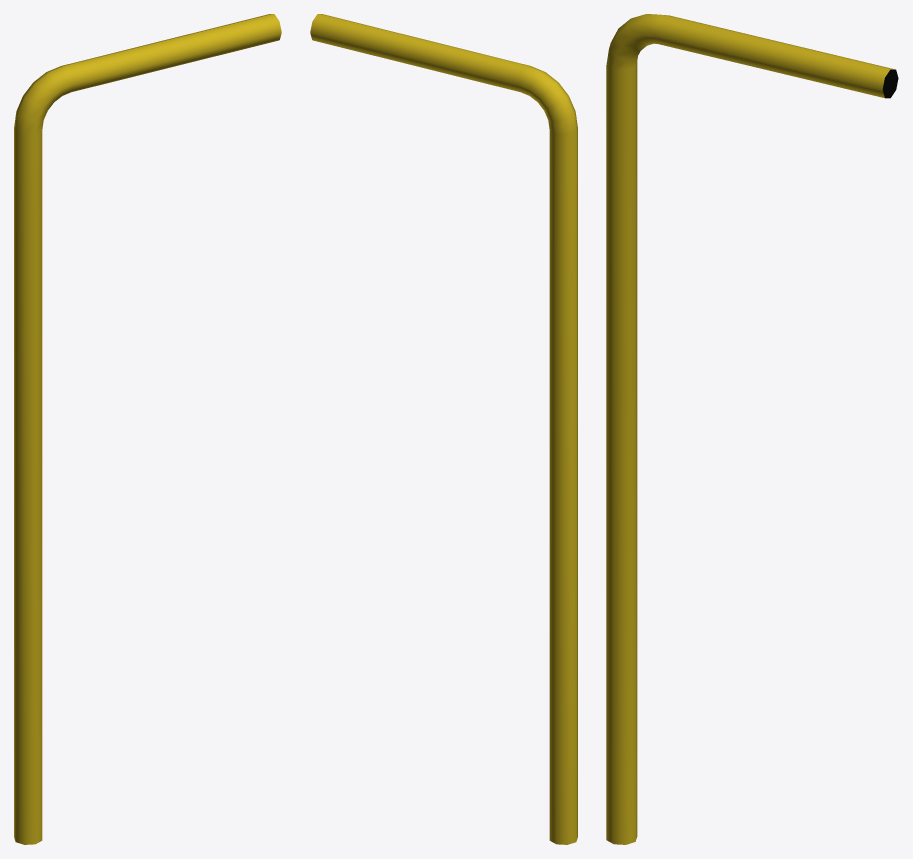
The model's file is Straw001.FBX.
3 renders of one model, left to right at view 1: azimuth 30°, elevation 25°; view 2: azimuth 150°, elevation 25°; view 3: azimuth 330°, elevation 25°, orthographic. The views are drawn at different scales.
Visible parts, largest first — view 1: Straw001; view 2: Straw001; view 3: Straw001.
Part boxes in pixels (x1,y1,x2,y2): Straw001: (14, 14, 281, 844); Straw001: (310, 14, 577, 844); Straw001: (606, 14, 898, 844).
Bounding box in the file's own units: 3.81 × 10.77 × 0.3721.
